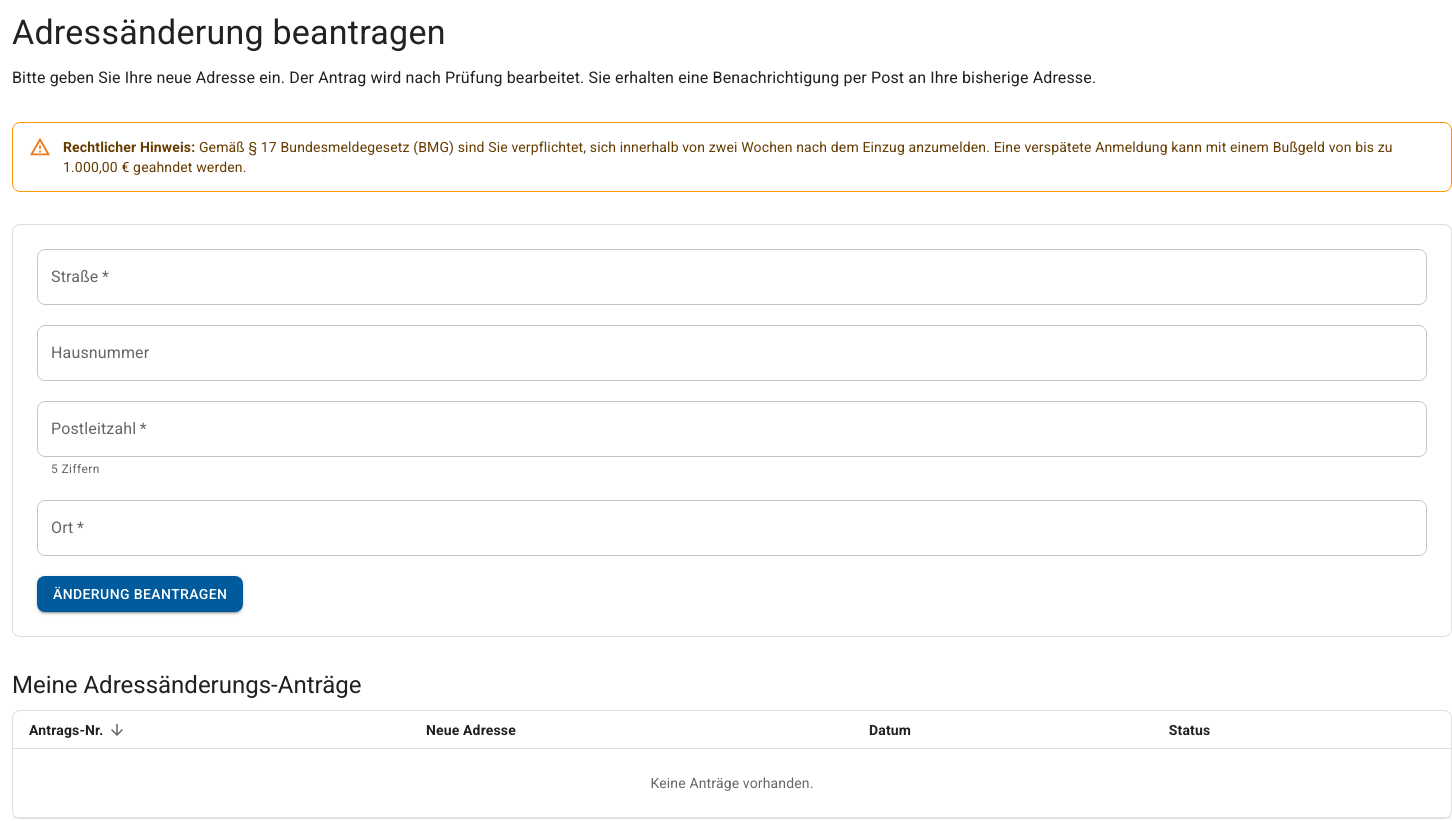
it: AddressChangePage › requires street and city and a valid postcode
The width and height of the screenshot is (1452, 821).
In the field labelled "Postleitzahl *": coordinates (732, 429) [37, 401, 1427, 457], type "12"
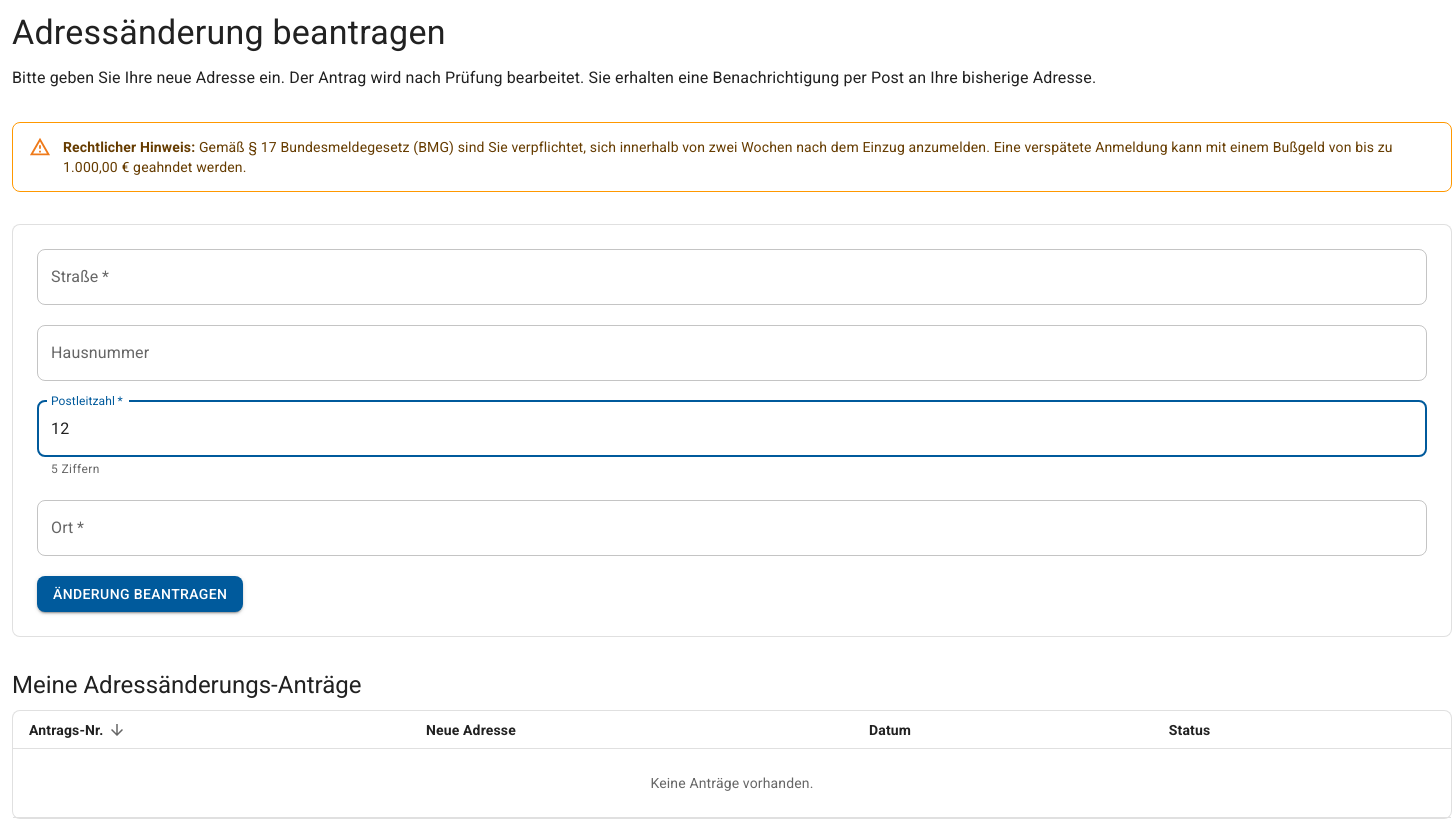
Click the button "Änderung beantragen": coordinates (140, 594) [37, 576, 244, 612]
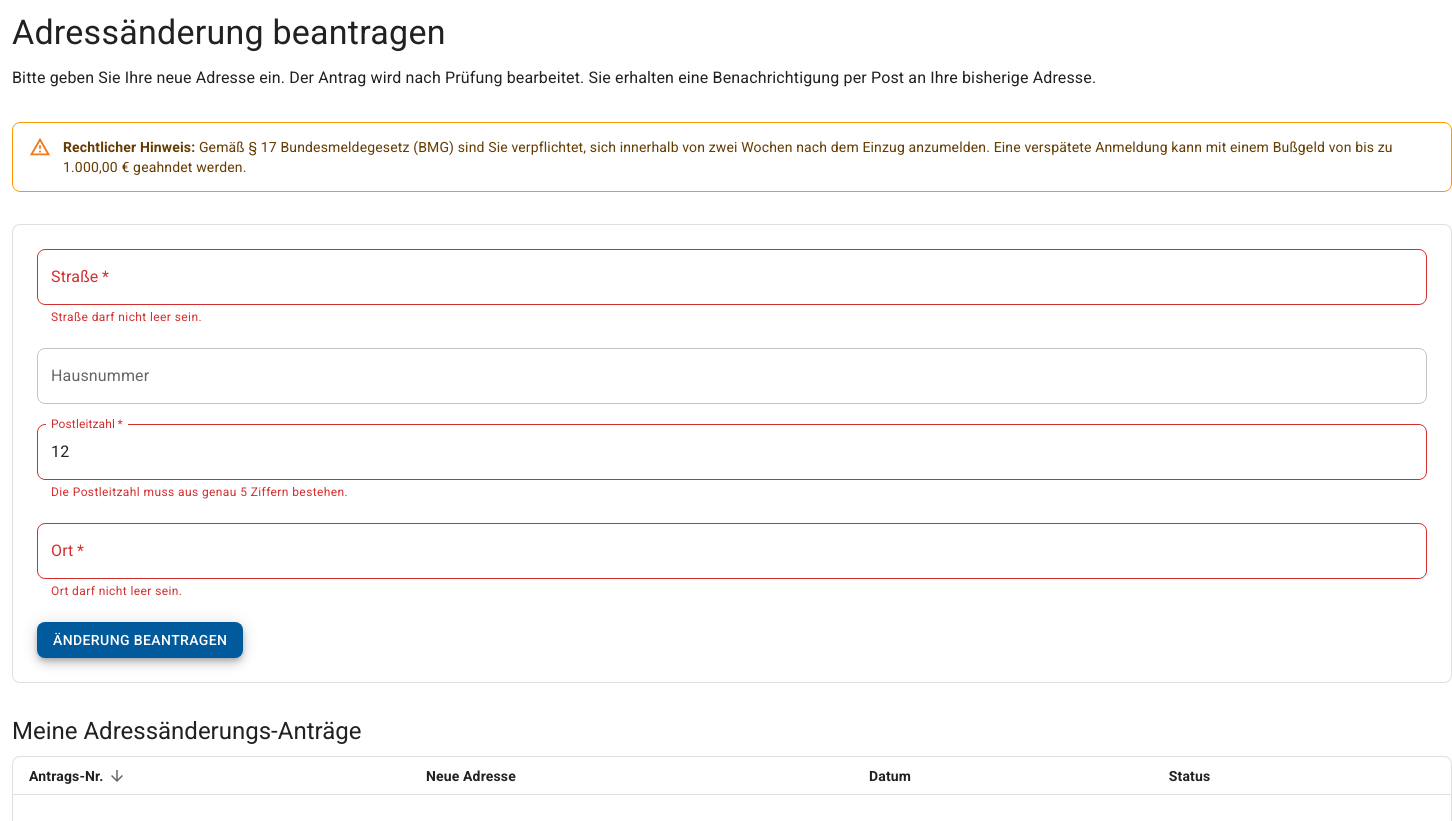
Expected: the text "Straße darf nicht leer sein." is shown, [51, 310, 202, 324]
Expected: the text "Ort darf nicht leer sein." is shown, [51, 584, 182, 598]
Expected: the text "Die Postleitzahl muss aus genau 5 Ziffern bestehen." is shown, [51, 485, 348, 499]
